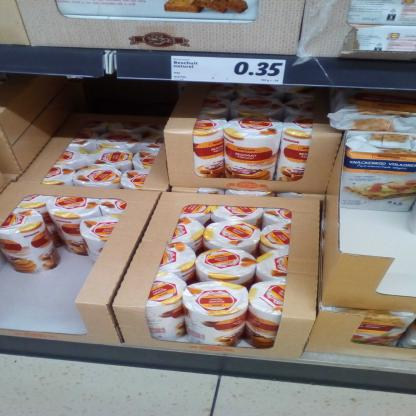prtg: (172, 57, 287, 86)
